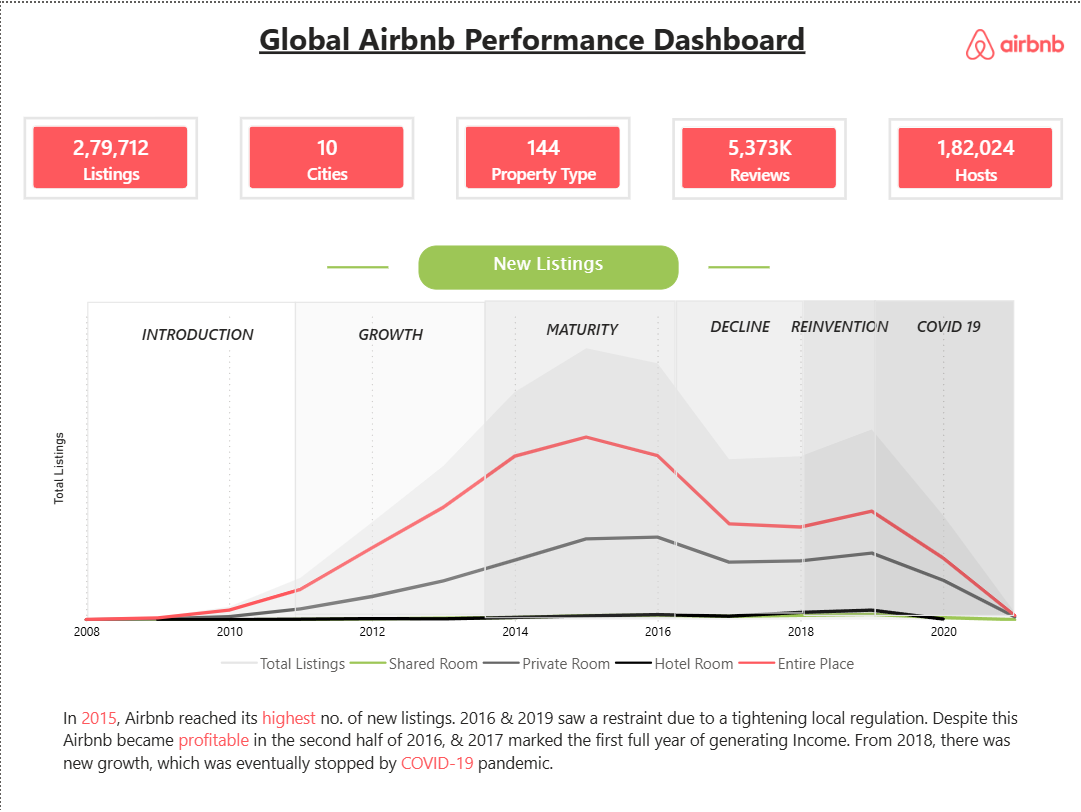

The dashboard page shown, as its layout file describes it:
{"tool":"powerbi","page":{"name":"Overview","canvas":[960,720],"ordinal":0},"visuals":[{"type":"shape","box":[77.2,265.2,185.9,283.7],"z":0},{"type":"cardVisual","fields":{"Data":["CountNonNull(Listings.listing_id)"]},"box":[19.6,101.2,155.4,73.9],"z":1000},{"type":"image","box":[857.6,19.6,87,33.7],"z":2000},{"type":"textbox","box":[224.6,7.6,510.9,56.5],"z":3000},{"type":"cardVisual","fields":{"Data":["Count(Listings.city)"]},"box":[212,101.2,155.4,73.9],"z":4000},{"type":"cardVisual","fields":{"Data":["Count(Listings.property_type)"]},"box":[404.3,101.2,155.4,73.9],"z":5000},{"type":"cardVisual","fields":{"Data":["Count(Reviews.review_id)"]},"box":[596.7,102.3,155.4,72.8],"z":6000},{"type":"cardVisual","fields":{"Data":["Count(Listings.host_id)"]},"box":[789.1,102.3,155.4,72.8],"z":7000},{"type":"lineChart","fields":{"Category":["Listings.host_since.Variation.Date Hierarchy.Year"],"Y":["CountNonNull(Listings.listing_id)","Listings.Shared Room","Listings.Private Room","Listings.Hotel Room","Listings.Entire Place"]},"box":[41.4,265.2,877.2,340.2],"z":8000},{"type":"textbox","box":[371.2,215.4,231.5,39.1],"z":9000},{"type":"shape","box":[290.2,205.5,54.3,58.7],"z":10000},{"type":"shape","box":[629.3,205.5,54.3,58.7],"z":11000},{"type":"textbox","box":[113,280.4,122.8,28.3],"z":12000},{"type":"shape","box":[260.9,265.2,169.6,278.3],"z":13000},{"type":"textbox","box":[304.3,280.4,83.7,33.7],"z":14000},{"type":"shape","box":[430.4,264.1,169.6,282.6],"z":15000},{"type":"textbox","box":[473.9,275,83.7,33.7],"z":16000},{"type":"shape","box":[600,264.1,113,278.3],"z":17000},{"type":"textbox","box":[612,272.8,89.1,38],"z":18000},{"type":"shape","box":[713,264.1,64.1,280.4],"z":19000},{"type":"textbox","box":[693.5,272.8,104.3,30.4],"z":20000},{"type":"shape","box":[777.2,264.1,123.9,280.4],"z":21000},{"type":"textbox","box":[797.8,272.8,89.1,28.3],"z":22000},{"type":"textbox","box":[50.5,620.5,859,100],"z":23000}]}

Visuals, with their boxes in screenshot pixels (x1, y1, x2, y2), scaled from the page's 960x720 canvas onto the 1081x812 screenshot:
shape: Rect(87, 299, 296, 619)
cardVisual - CountNonNull(Listings.listing_id): Rect(22, 114, 197, 197)
image: Rect(966, 22, 1064, 60)
textbox: Rect(253, 9, 828, 72)
cardVisual - Count(Listings.city): Rect(239, 114, 414, 197)
cardVisual - Count(Listings.property_type): Rect(455, 114, 630, 197)
cardVisual - Count(Reviews.review_id): Rect(672, 115, 847, 197)
cardVisual - Count(Listings.host_id): Rect(889, 115, 1064, 197)
lineChart - Listings.host_since.Variation.Date Hierarchy.Year x CountNonNull(Listings.listing_id): Rect(47, 299, 1034, 683)
textbox: Rect(418, 243, 679, 287)
shape: Rect(327, 232, 388, 298)
shape: Rect(709, 232, 770, 298)
textbox: Rect(127, 316, 266, 348)
shape: Rect(294, 299, 485, 613)
textbox: Rect(343, 316, 437, 354)
shape: Rect(485, 298, 676, 617)
textbox: Rect(534, 310, 628, 348)
shape: Rect(676, 298, 803, 612)
textbox: Rect(689, 308, 789, 351)
shape: Rect(803, 298, 875, 614)
textbox: Rect(781, 308, 898, 342)
shape: Rect(875, 298, 1015, 614)
textbox: Rect(898, 308, 999, 340)
textbox: Rect(57, 700, 1024, 811)
